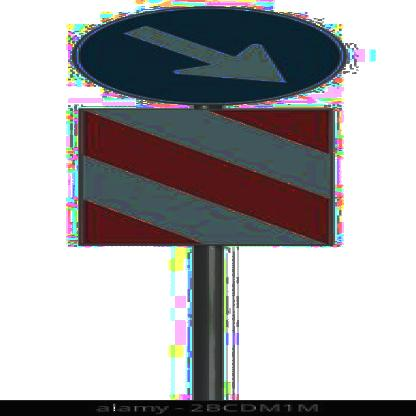Keep right: (61, 6, 364, 106)
